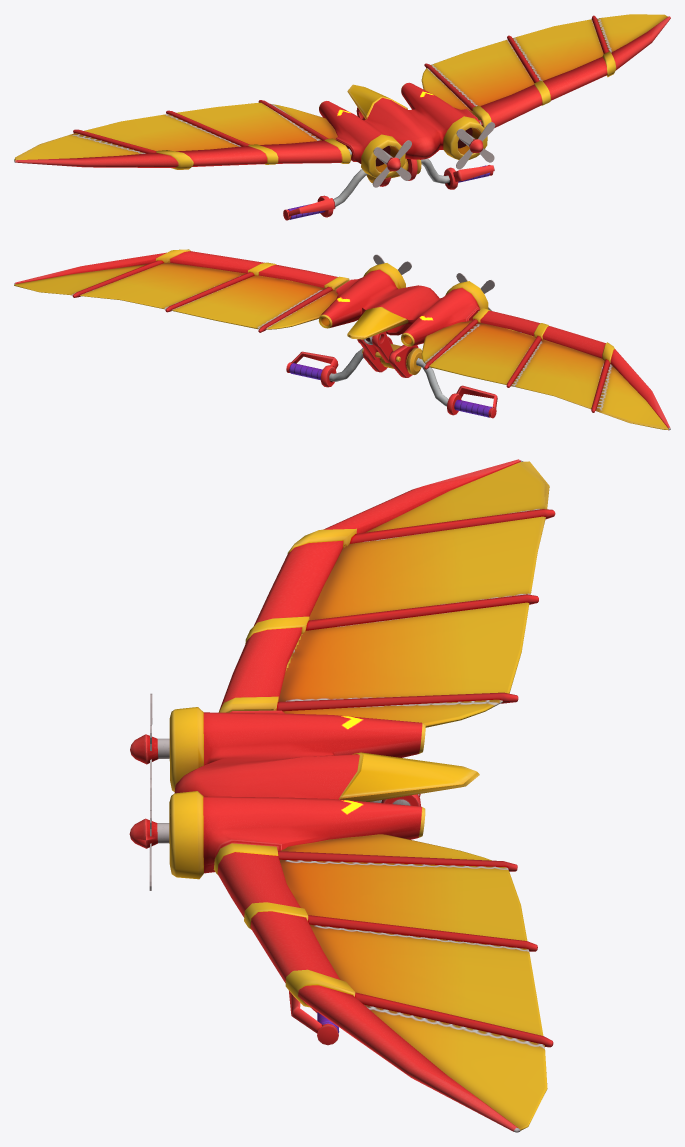
The model's file is bot_glider.glb.
The picture shows the model from 3 angles, top to bottom: view 1: azimuth 30°, elevation 25°; view 2: azimuth 150°, elevation 25°; view 3: azimuth 270°, elevation 25°; orthographic projection. The views are drawn at different scales.
Parts seen in each view (by area): view 1: Glider_Final; view 2: Glider_Final; view 3: Glider_Final.
Part boxes in pixels (<box>): Glider_Final: <box>14,14,670,220</box>; Glider_Final: <box>14,249,670,430</box>; Glider_Final: <box>129,459,555,1132</box>.
Size of the model in its own units: 3.59 by 0.5547 by 1.01.
Materials: 1 (1 with a texture image).
